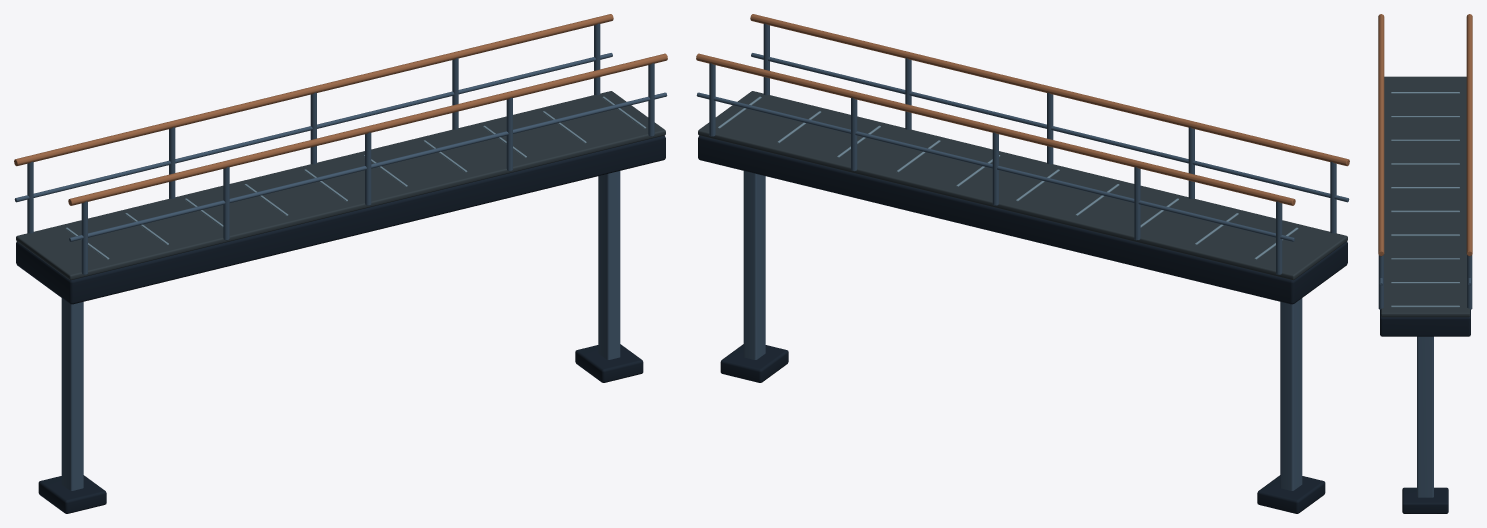
Rendered from foundry_catwalk.fbx.
3 views of the same model, side by side, from view 1: azimuth 30°, elevation 25°; view 2: azimuth 150°, elevation 25°; view 3: azimuth 270°, elevation 25° (orthographic). The views are drawn at different scales.
Visible parts, largest first — view 1: foundry_catwalk_Geometry; view 2: foundry_catwalk_Geometry; view 3: foundry_catwalk_Geometry.
Boxes of the visible parts, bbox=[...] form: foundry_catwalk_Geometry: bbox=[14, 14, 667, 513]; foundry_catwalk_Geometry: bbox=[696, 14, 1349, 513]; foundry_catwalk_Geometry: bbox=[1378, 14, 1472, 513].
Size of the model in its own units: 8 by 4.2 by 1.35.
